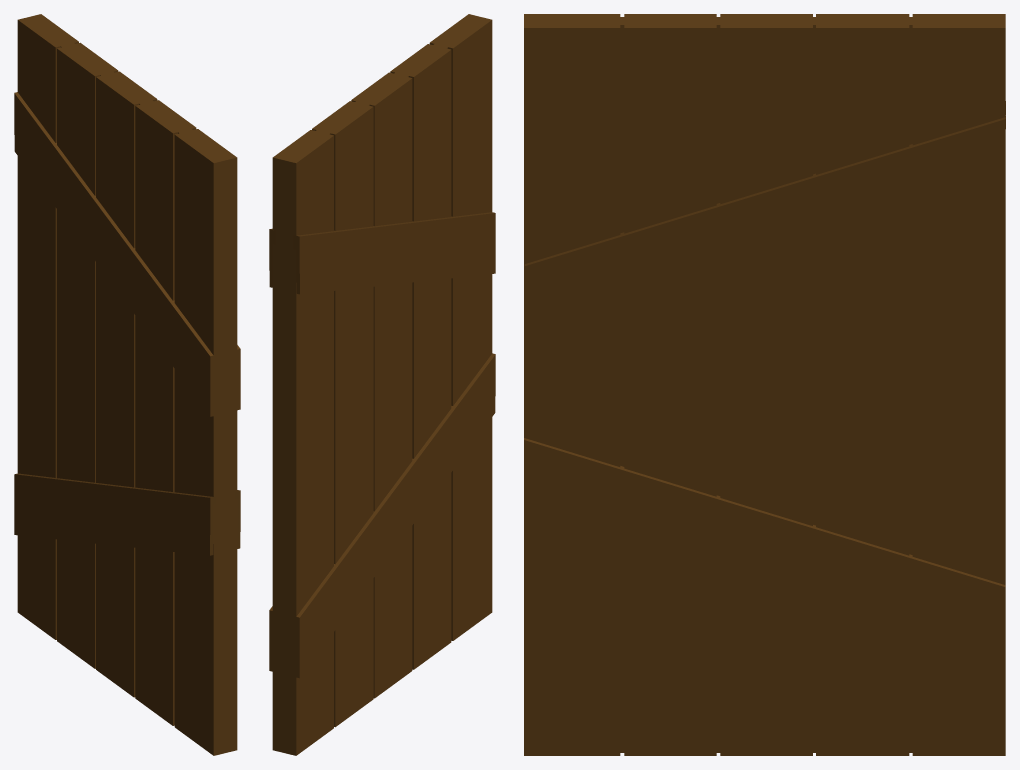
File: WoodenCabinDoor.fbx
3 renders of one model, left to right at view 1: azimuth 30°, elevation 25°; view 2: azimuth 150°, elevation 25°; view 3: azimuth 270°, elevation 25°, orthographic. The views are drawn at different scales.
Parts seen in each view (by area): view 1: Door; view 2: Door; view 3: Door.
Part boxes in pixels (bbox=[...]): Door: bbox=[14, 14, 240, 755]; Door: bbox=[269, 14, 495, 755]; Door: bbox=[524, 14, 1005, 755].
Size of the model in its own units: 9.12 by 170 by 102.
